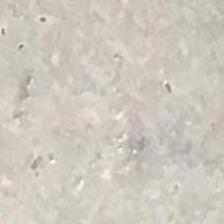Non_Crack: (79, 42, 224, 208)
